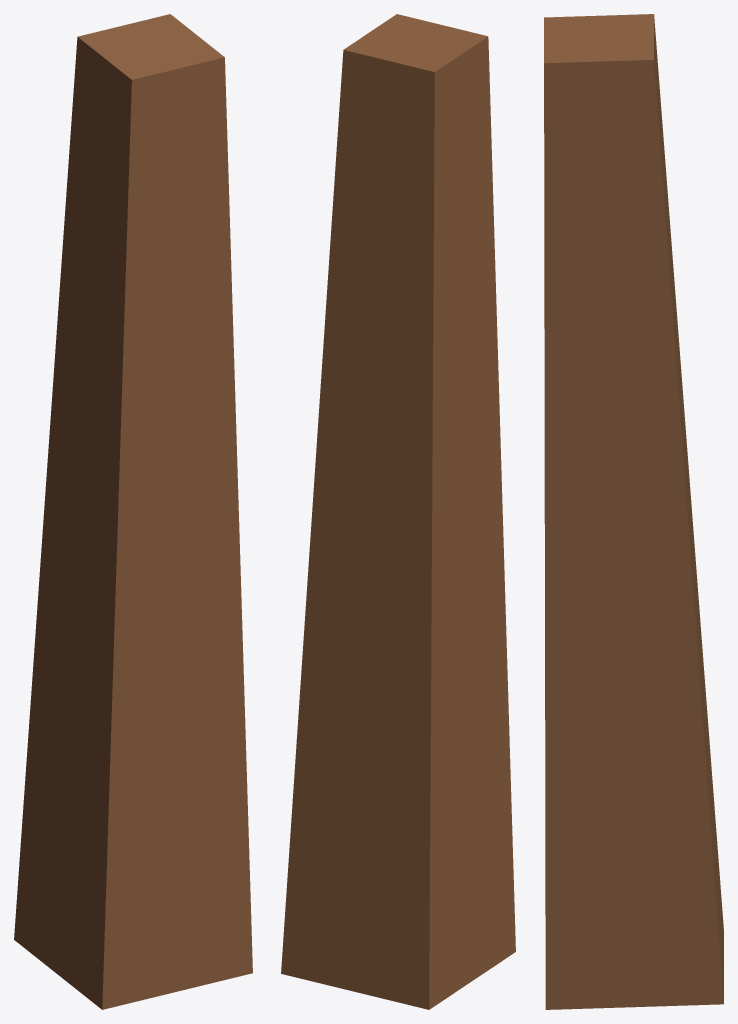
The model's file is tree-summer-trunk-4-054.glb.
The picture shows the model from 3 angles, left to right: view 1: azimuth 30°, elevation 25°; view 2: azimuth 150°, elevation 25°; view 3: azimuth 270°, elevation 25°; orthographic projection. The views are drawn at different scales.
Parts seen in each view (by area): view 1: TREE 4.001_318; view 2: TREE 4.001_318; view 3: TREE 4.001_318.
Part boxes in pixels (<box>): TREE 4.001_318: <box>14,14,252,1009</box>; TREE 4.001_318: <box>281,14,515,1009</box>; TREE 4.001_318: <box>544,14,723,1009</box>.
Bounding box in the file's own units: 0.1065 × 0.6262 × 0.1091.
